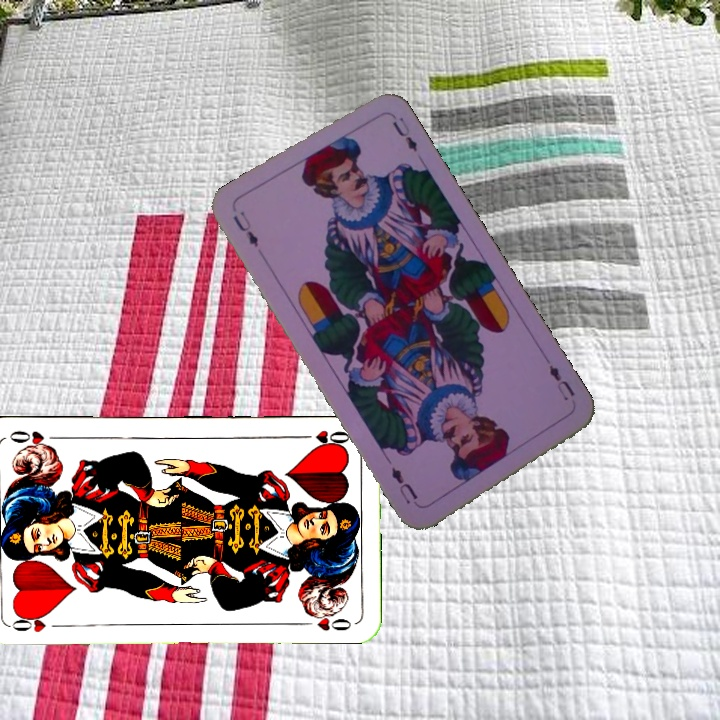EU: (544, 360, 578, 404), (229, 207, 262, 250)
HO: (6, 609, 65, 635), (295, 426, 352, 449)
